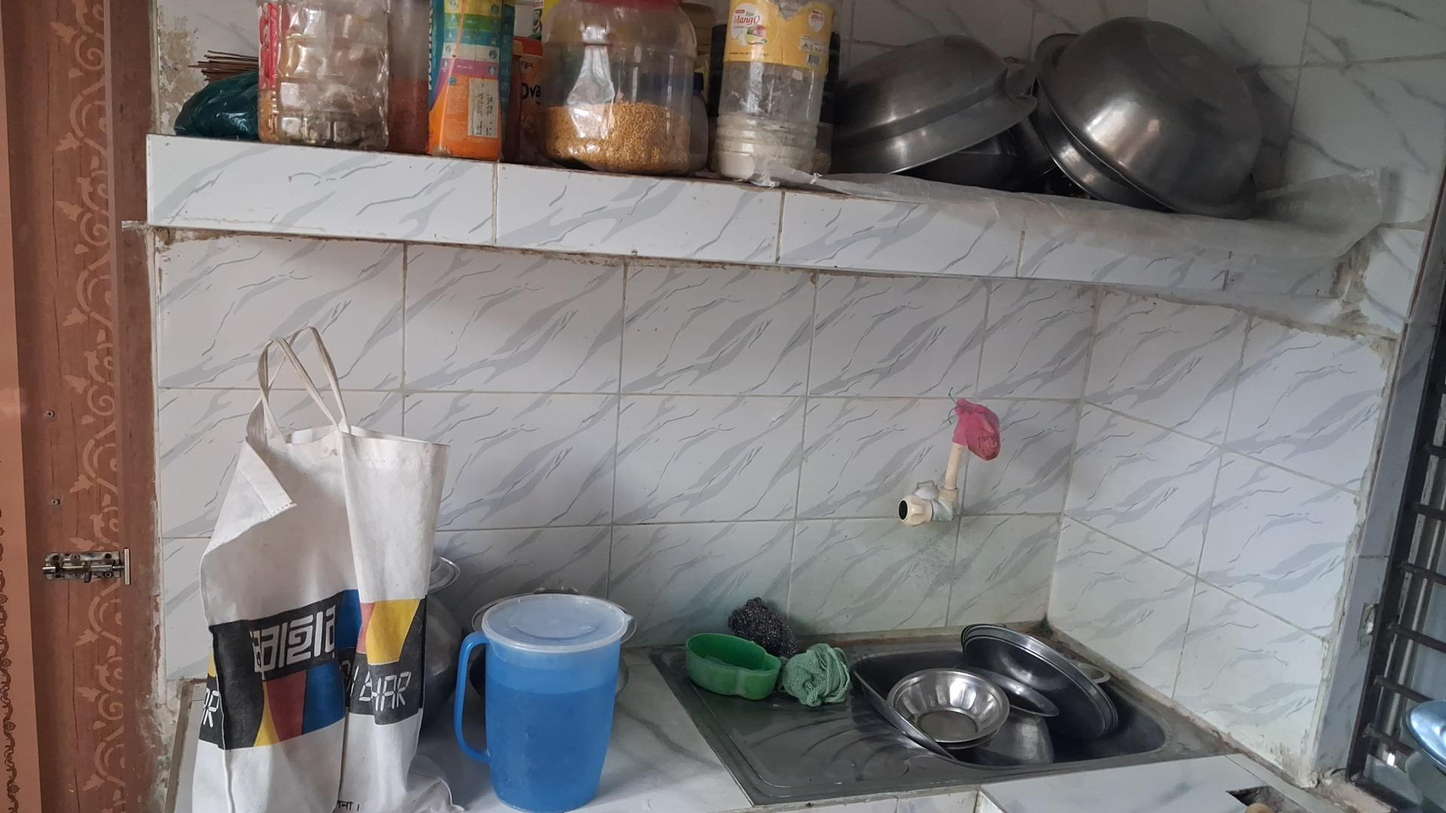Bag: (182, 340, 450, 813)
Bowl: (886, 668, 1009, 752)
Jar: (539, 1, 700, 175), (707, 0, 837, 181), (249, 0, 389, 153), (423, 5, 524, 155), (685, 633, 783, 700)
Jug: (452, 591, 636, 811)
Pot: (1029, 16, 1263, 217), (841, 39, 1026, 187)
